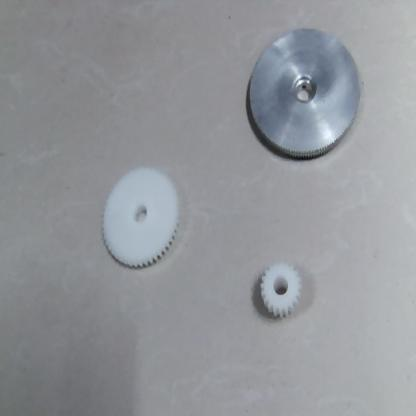FOD: (241, 23, 367, 168), (102, 163, 184, 283), (254, 260, 305, 323)
